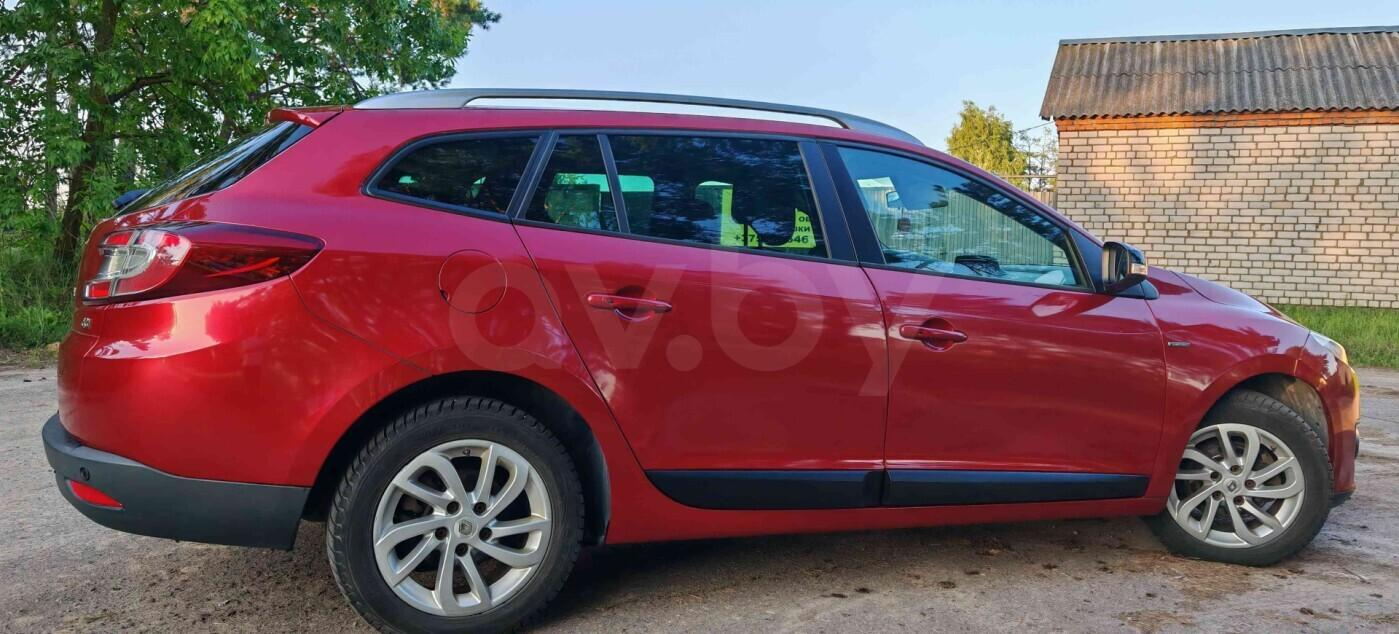Megane_2012-2014: (41, 97, 1365, 616)
